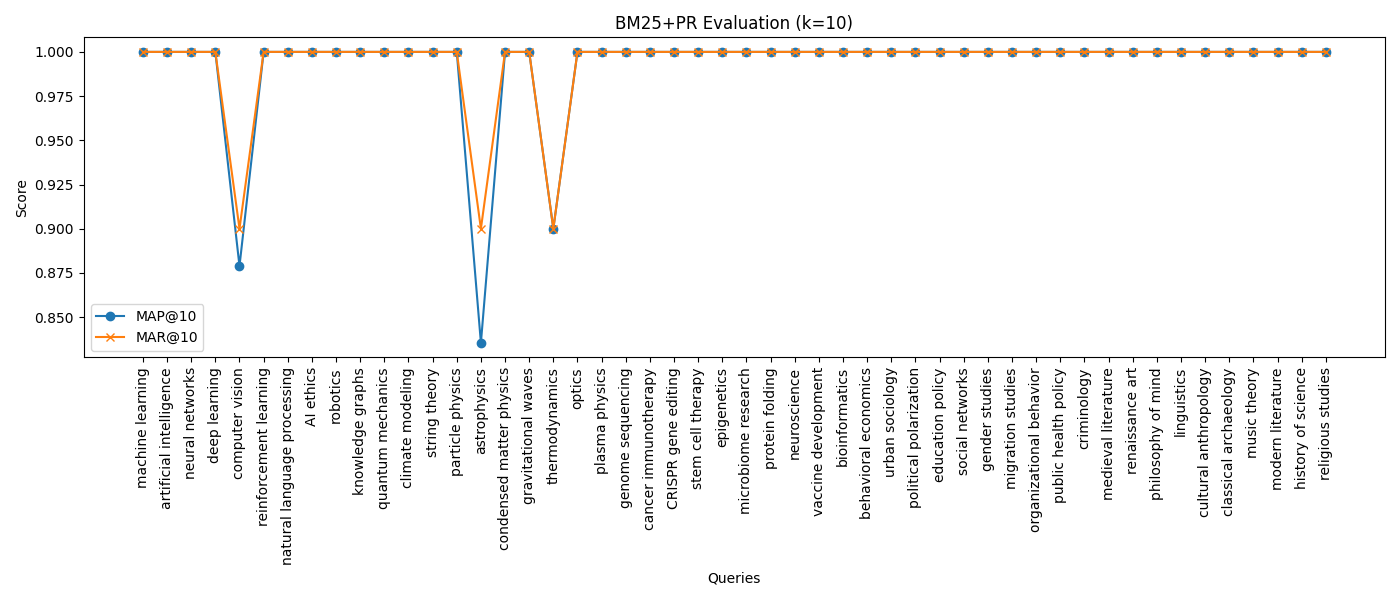

What the dashboard file says about the page in this screenshot:
{"tool":"tableau","page":{"name":"Dashboard 1","canvas":[1000,1000],"units":"permille","ordinal":0},"visuals":[{"type":"worksheet","title":"Sheet 3","mark":"Line","rows":["spearman_per_year"],"cols":["Year_as_format"],"box":[15.2,29.2,453.5,943.9]}]}

Visuals, with their boxes on the dashboard's canvas, which has no fixed pixel size, in thousandths of its width and height (x1, y1, x2, y2). These are canvas units, not pixel positions in the 1400x600 screenshot, which may show the page scaled, cropped or inside an application window:
"Sheet 3" worksheet (Line marks): [15,29,469,973]
